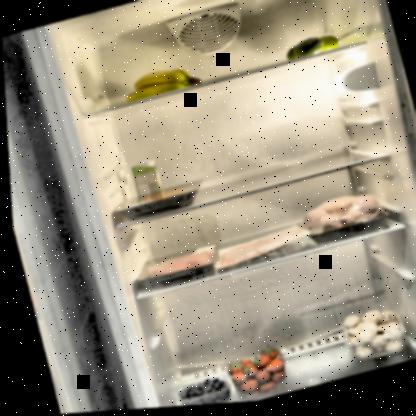banana: (118, 60, 206, 107)
beef: (108, 181, 205, 228)
blueberries: (169, 374, 228, 407)
chicken: (291, 189, 391, 254)
ground_beef: (139, 246, 216, 286)
heavy_cream: (127, 159, 161, 204)
lime: (280, 34, 342, 67)
mushrooms: (330, 306, 409, 375)
strawberries: (216, 343, 289, 398)
